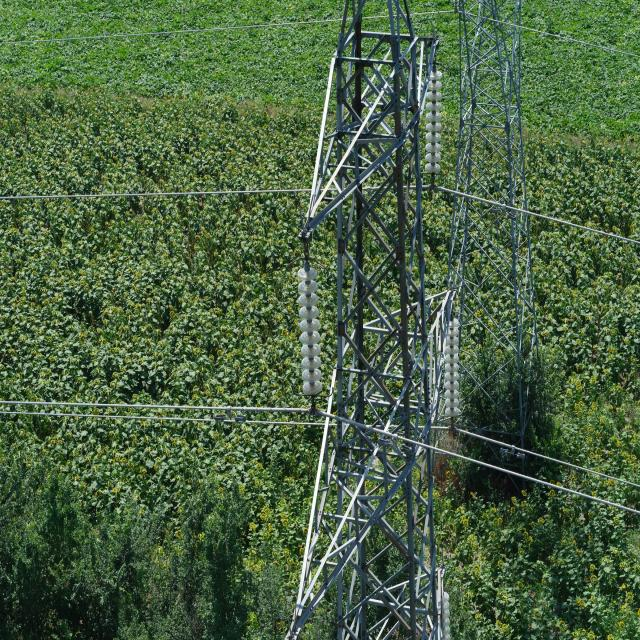voltage_line: (292, 7, 456, 632), (445, 0, 540, 464)
